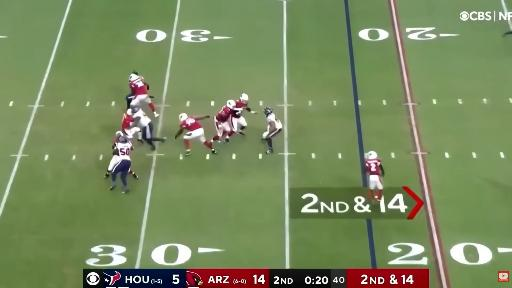Helmet: (119, 135, 129, 145), (367, 151, 377, 159), (130, 106, 139, 114), (227, 100, 235, 108), (240, 94, 248, 102), (130, 74, 139, 81), (179, 114, 187, 121), (126, 108, 134, 115), (116, 131, 123, 137)
Jersey: (180, 117, 202, 131), (130, 77, 147, 95), (134, 110, 151, 127), (116, 142, 131, 160), (232, 100, 247, 118), (215, 106, 231, 122), (366, 159, 381, 175), (267, 113, 282, 129), (122, 114, 133, 131), (113, 144, 119, 155)
Player: (175, 114, 217, 155), (130, 107, 165, 150), (110, 136, 132, 193), (130, 73, 158, 117), (229, 94, 257, 136), (211, 100, 235, 142), (262, 107, 282, 153), (366, 151, 384, 201), (105, 131, 123, 178), (122, 109, 140, 139), (126, 87, 135, 109), (504, 31, 511, 36)
